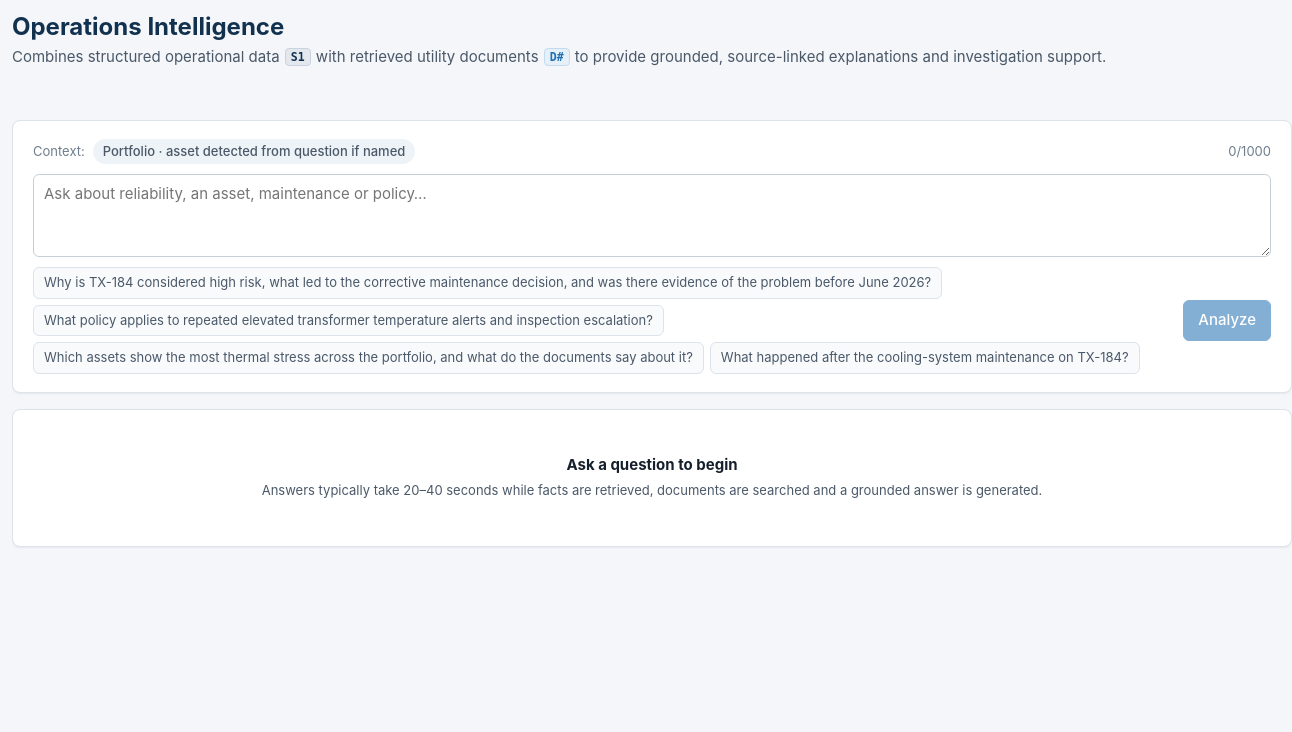
Test: Operations Intelligence › shows a non-technical model-unavailable message
The width and height of the screenshot is (1292, 732).
What coordinates should you click on to do the following:
click the button "TX-184 considered high risk"
I would click on:
 (488, 283)
Its box is [33,267,942,299].
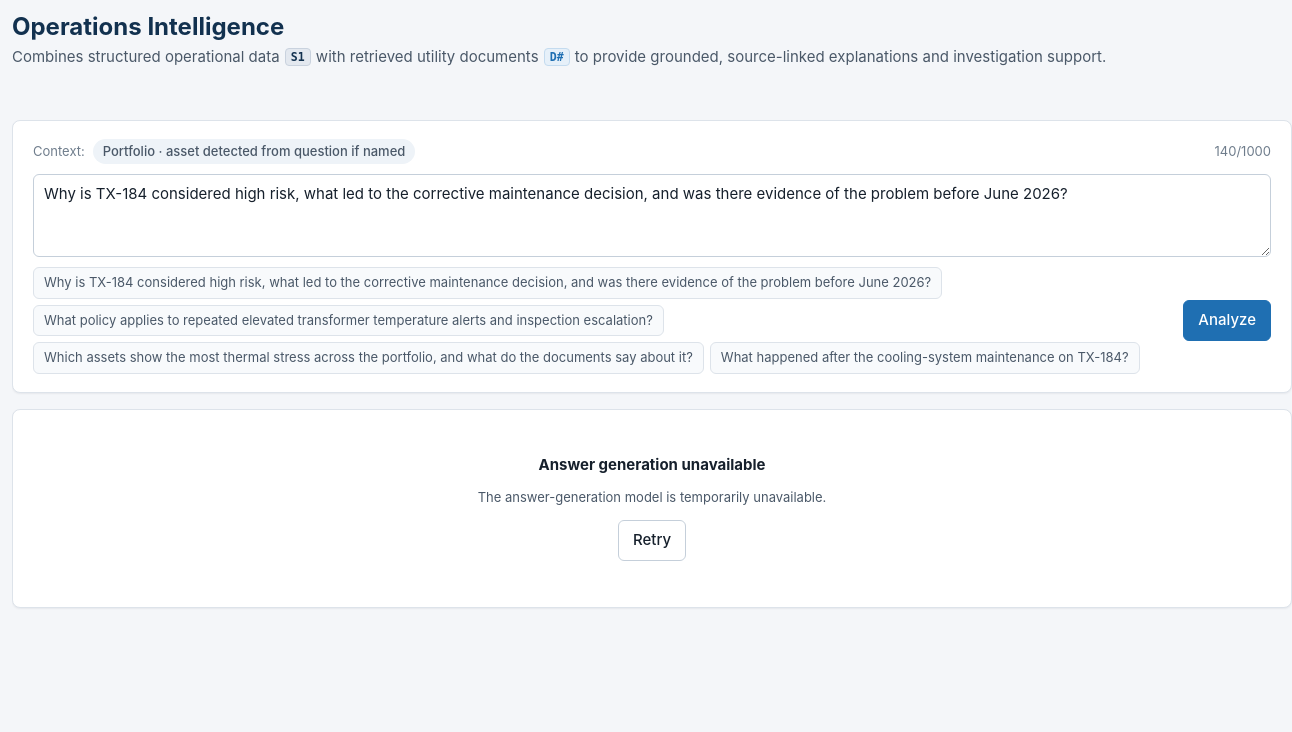
Check: the heading "Answer generation unavailable" is shown, box [538,455,766,474]
Check: the button "Retry" is shown, box [618,520,686,560]
